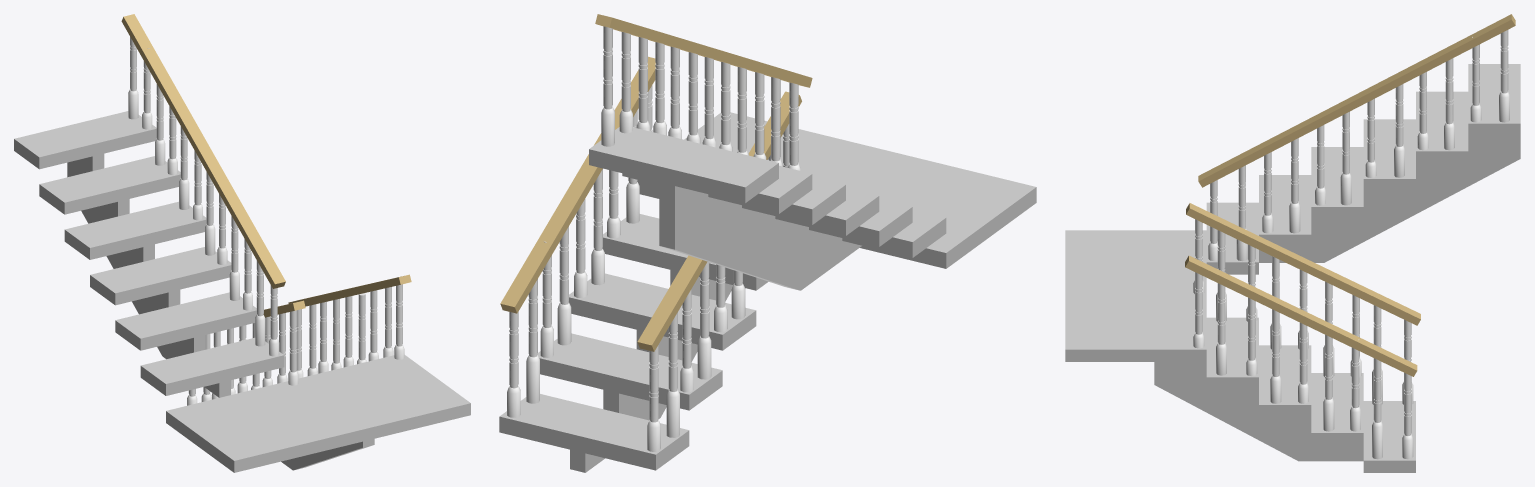
3 renders of one model, left to right at view 1: azimuth 30°, elevation 25°; view 2: azimuth 150°, elevation 25°; view 3: azimuth 270°, elevation 25°, orthographic. The views are drawn at different scales.
Parts seen in each view (by area): view 1: Stair, Box004, Box001, Cylinder017, Cylinder028, Cylinder029, Cylinder031, Cylinder030, Cylinder019, Cylinder010, Cylinder011, Cylinder032 (+12 smaller); view 2: Stair, Box001, Box002, Box004, Cylinder022, Cylinder032, Cylinder019, Cylinder027, Cylinder023, Cylinder020, Cylinder001, Cylinder002 (+18 smaller); view 3: Stair, Box004, Box002, Box001, Cylinder032, Cylinder023, Cylinder031, Cylinder018, Cylinder019, Cylinder028, Cylinder029, Cylinder030 (+15 smaller).
Part boxes in pixels (left/top/right/bottom): Stair: left=14, top=111, right=470, bottom=472; Box004: left=121, top=14, right=285, bottom=288; Box001: left=288, top=274, right=411, bottom=306; Cylinder017: left=255, top=260, right=265, bottom=346; Cylinder028: left=229, top=216, right=239, bottom=300; Cylinder029: left=205, top=171, right=215, bottom=255; Cylinder031: left=179, top=126, right=189, bottom=209; Cylinder030: left=155, top=84, right=165, bottom=165; Cylinder019: left=128, top=37, right=138, bottom=119; Cylinder010: left=288, top=310, right=298, bottom=385; Cylinder011: left=269, top=285, right=279, bottom=356; Cylinder032: left=307, top=304, right=317, bottom=375; Stair: left=499, top=112, right=1036, bottom=472; Box001: left=500, top=56, right=655, bottom=313; Box002: left=637, top=91, right=801, bottom=351; Box004: left=595, top=14, right=812, bottom=87; Cylinder022: left=666, top=312, right=679, bottom=437; Cylinder032: left=526, top=279, right=539, bottom=403; Cylinder019: left=601, top=26, right=614, bottom=146; Cylinder027: left=697, top=262, right=711, bottom=379; Cylinder023: left=557, top=226, right=571, bottom=345; Cylinder020: left=591, top=169, right=604, bottom=285; Cylinder001: left=507, top=312, right=520, bottom=417; Cylinder002: left=647, top=345, right=660, bottom=451; Stair: left=1065, top=64, right=1520, bottom=472; Box004: left=1198, top=14, right=1515, bottom=187; Box002: left=1186, top=203, right=1420, bottom=325; Box001: left=1185, top=255, right=1417, bottom=376; Cylinder032: left=1372, top=358, right=1382, bottom=459; Cylinder023: left=1323, top=334, right=1334, bottom=431; Cylinder031: left=1394, top=84, right=1404, bottom=177; Cylinder018: left=1216, top=283, right=1226, bottom=375; Cylinder019: left=1499, top=30, right=1509, bottom=122; Cylinder028: left=1289, top=138, right=1300, bottom=233; Cylinder029: left=1340, top=111, right=1351, bottom=205; Cylinder030: left=1444, top=58, right=1454, bottom=150.
Bounding box in the file's own units: 60.08 × 95.7 × 96.8.
